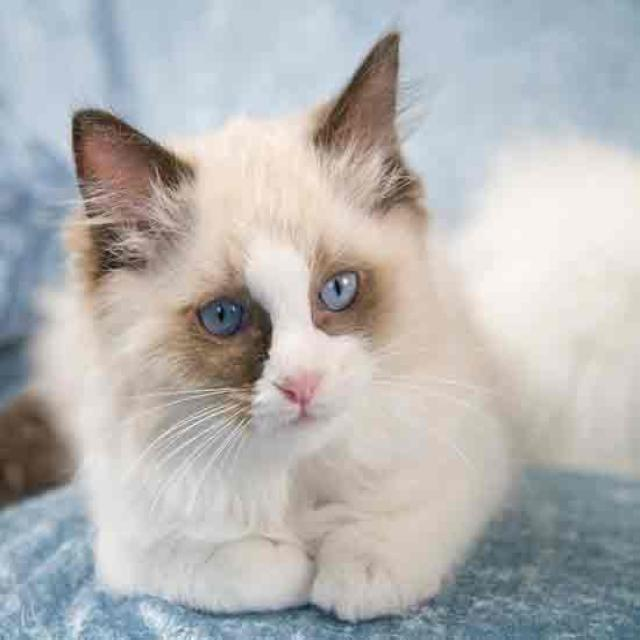Ragdoll: (65, 19, 458, 460)
